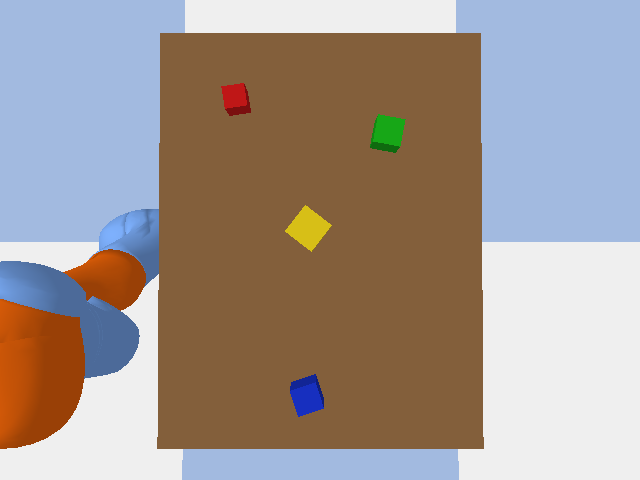blue_obj: (290, 374, 323, 416)
green_obj: (370, 114, 405, 152)
red_obj: (221, 83, 250, 115)
yellow_obj: (285, 205, 331, 251)
